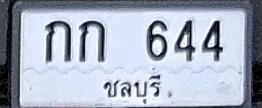4: (174, 19, 195, 61), (202, 19, 222, 61)
6: (146, 19, 168, 60)
A01: (78, 20, 106, 62), (45, 20, 71, 62)
CBI: (99, 71, 164, 105)
